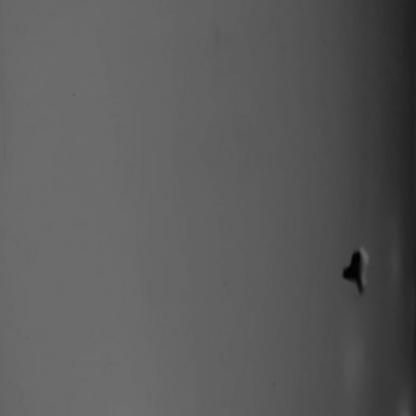kongdong: (333, 219, 376, 315)
